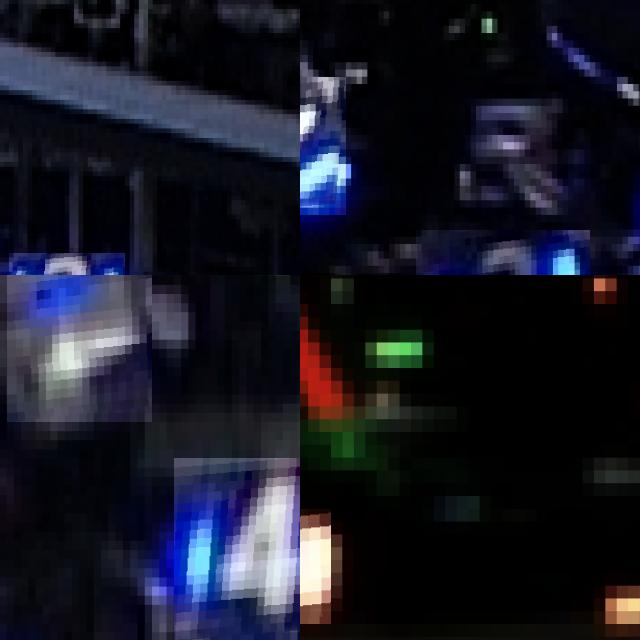B2: (9, 252, 125, 275)
B3: (416, 229, 589, 275), (300, 77, 346, 215)
B4: (173, 458, 300, 640), (6, 275, 152, 421)
Rs: (300, 509, 331, 624)
